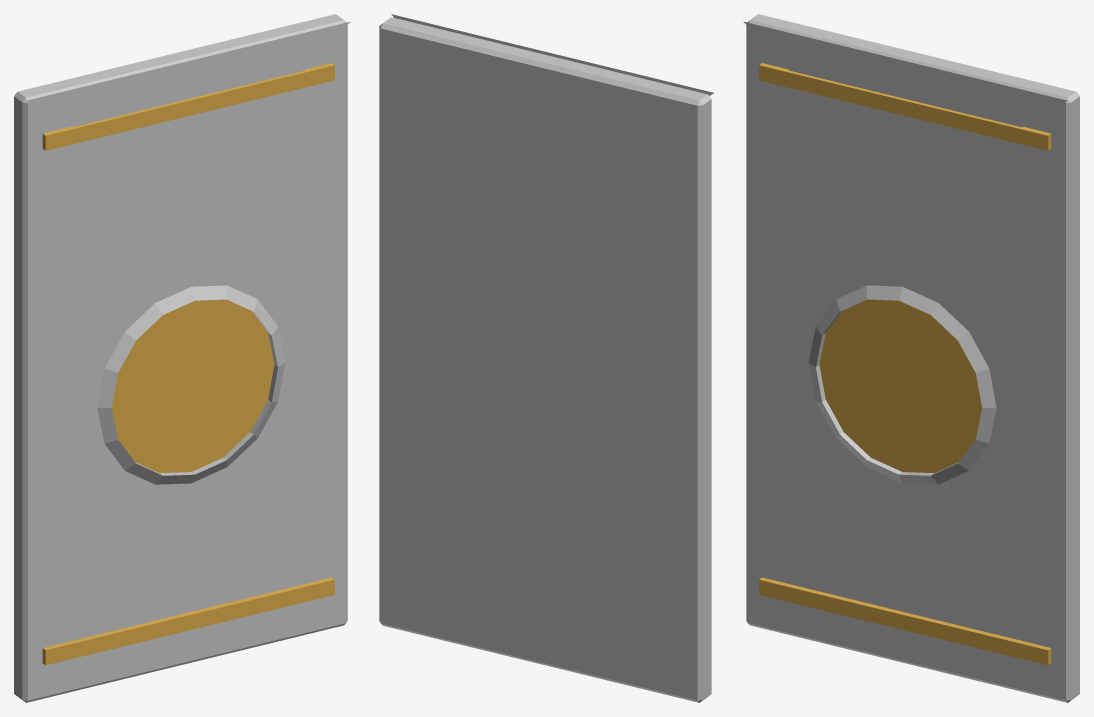
The model's file is ev_red_envelope_v01.glb.
3 renders of one model, left to right at view 1: azimuth 30°, elevation 25°; view 2: azimuth 150°, elevation 25°; view 3: azimuth 330°, elevation 25°, orthographic.
Parts seen in each view (by area): view 1: red_envelope; view 2: red_envelope; view 3: red_envelope.
Boxes of the visible parts, bbox=[...] form: red_envelope: bbox=[14, 14, 350, 702]; red_envelope: bbox=[379, 14, 713, 702]; red_envelope: bbox=[743, 14, 1079, 702].
Size of the model in its own units: 0.09 by 0.16 by 0.00973.
